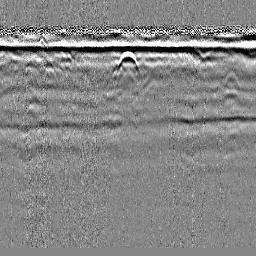cavity: (111, 50, 143, 82)
